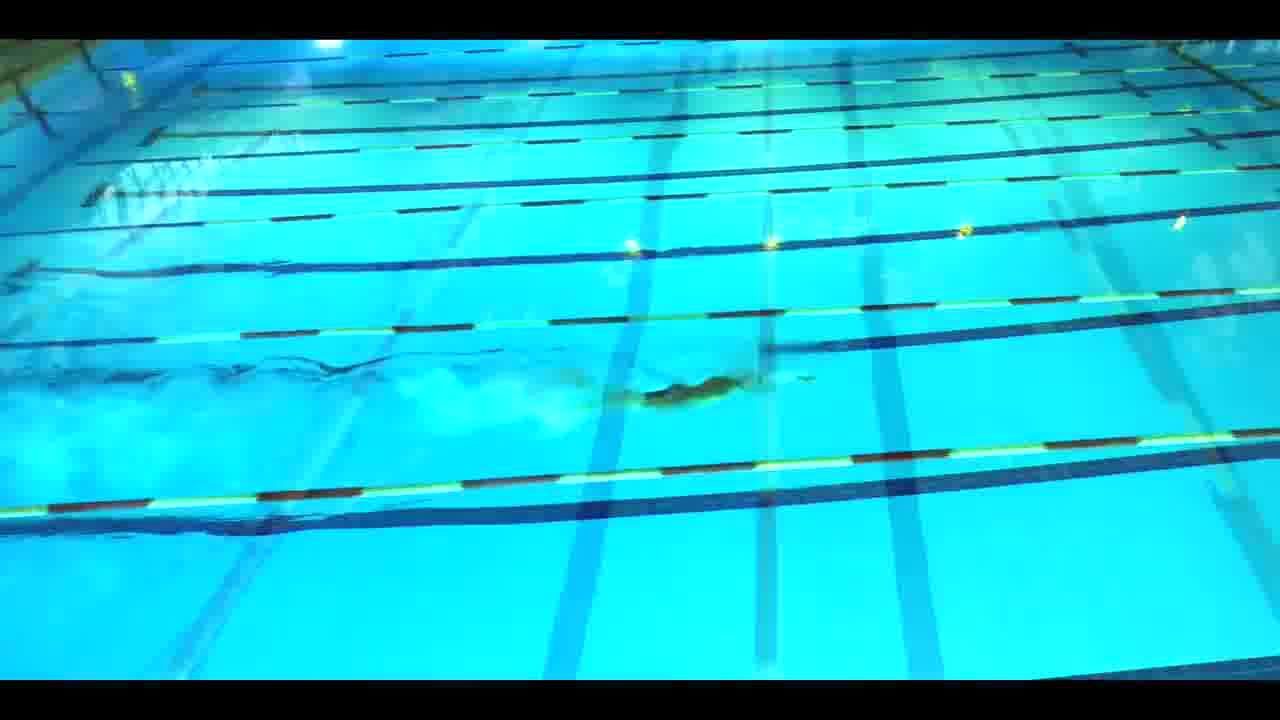swimmer: (647, 371, 755, 407)
